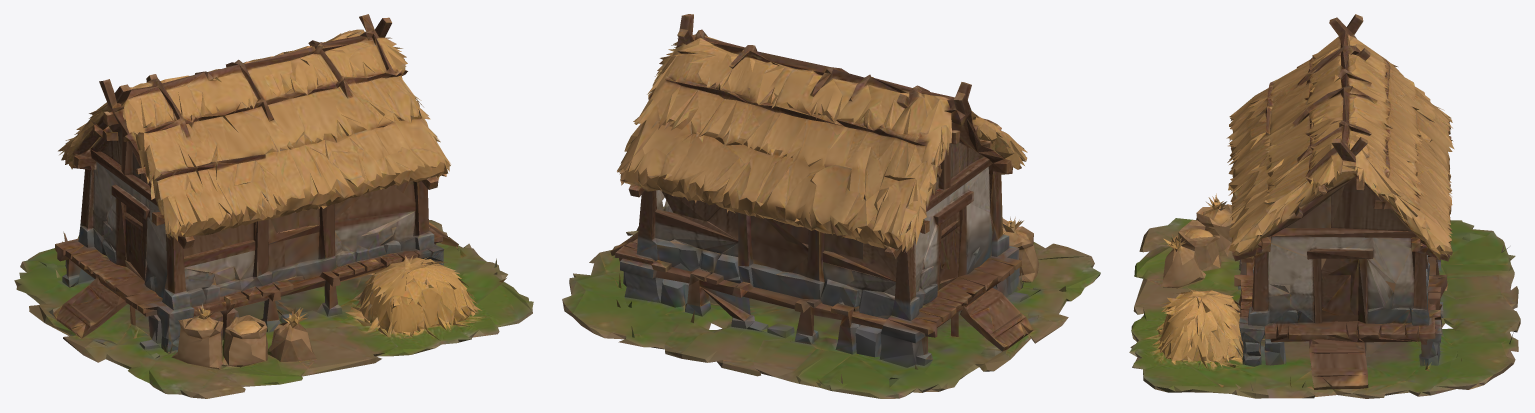
The model's file is farmmill.glb.
3 views of the same model, side by side, from view 1: azimuth 30°, elevation 25°; view 2: azimuth 150°, elevation 25°; view 3: azimuth 270°, elevation 25° (orthographic). The views are drawn at different scales.
Size of the model in its own units: 1.9 by 1.08 by 1.68.
Materials: 1 (1 with a texture image).
